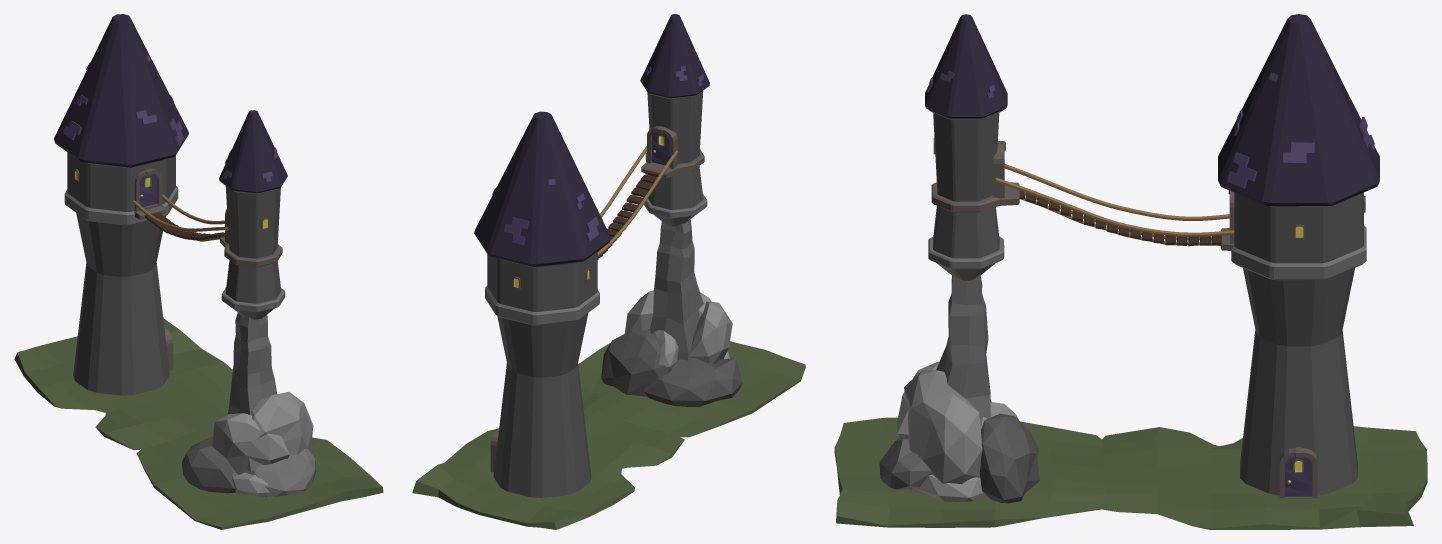
Rendered from wizard_tower.gltf.
The picture shows the model from 3 angles, left to right: view 1: azimuth 30°, elevation 25°; view 2: azimuth 150°, elevation 25°; view 3: azimuth 270°, elevation 25°; orthographic projection. The views are drawn at different scales.
Visible parts, largest first — view 1: Plane, Cylinder, Cone, Icosphere004, Top_Wall001, Top_Wall, Cube, Cone002, Icosphere004_2, Icosphere004_1, Bottom_Sperator, Plane001 (+5 smaller); view 2: Plane, Cylinder, Cone, Icosphere004_1, Cube, Top_Wall, Top_Wall001, Icosphere004, Cone002, Bottom_Sperator, Drawbridge, Plane001 (+5 smaller); view 3: Plane, Cylinder, Cone, Icosphere004, Top_Wall001, Top_Wall, Cone002, Cube, Icosphere004_1, Bottom_Sperator, Icosphere004_2, Plane001 (+7 smaller).
Part boxes in pixels (bbox=[...]): Plane: bbox=[14, 318, 383, 529]; Cylinder: bbox=[73, 213, 169, 395]; Cone: bbox=[54, 14, 188, 167]; Icosphere004: bbox=[212, 392, 313, 497]; Top_Wall001: bbox=[225, 186, 281, 303]; Top_Wall: bbox=[67, 152, 175, 211]; Cube: bbox=[227, 313, 277, 414]; Cone002: bbox=[219, 110, 287, 193]; Icosphere004_2: bbox=[245, 448, 316, 497]; Icosphere004_1: bbox=[182, 436, 235, 493]; Bottom_Sperator: bbox=[64, 186, 178, 225]; Plane001: bbox=[63, 55, 277, 182]; Plane: bbox=[412, 341, 805, 529]; Cylinder: bbox=[493, 313, 591, 497]; Cone: bbox=[474, 111, 610, 266]; Icosphere004_1: bbox=[601, 330, 742, 406]; Cube: bbox=[650, 219, 703, 360]; Top_Wall: bbox=[487, 251, 597, 311]; Top_Wall001: bbox=[647, 90, 703, 209]; Icosphere004: bbox=[624, 290, 732, 368]; Cone002: bbox=[640, 14, 709, 98]; Bottom_Sperator: bbox=[485, 286, 599, 325]; Drawbridge: bbox=[597, 170, 659, 259]; Plane001: bbox=[492, 66, 704, 245]; Plane: bbox=[834, 417, 1427, 529]; Cylinder: bbox=[1240, 268, 1357, 495]; Cone: bbox=[1218, 14, 1379, 206]; Icosphere004: bbox=[891, 361, 1018, 501]; Top_Wall001: bbox=[933, 112, 999, 258]; Top_Wall: bbox=[1234, 192, 1363, 263]; Cone002: bbox=[925, 14, 1007, 118]; Cube: bbox=[936, 275, 991, 420]; Icosphere004_1: bbox=[979, 413, 1039, 503]; Bottom_Sperator: bbox=[1231, 225, 1366, 280]; Icosphere004_2: bbox=[879, 437, 932, 489]; Plane001: bbox=[927, 71, 1374, 188].
Size of the model in its own units: 22.42 by 43.01 by 50.35.
